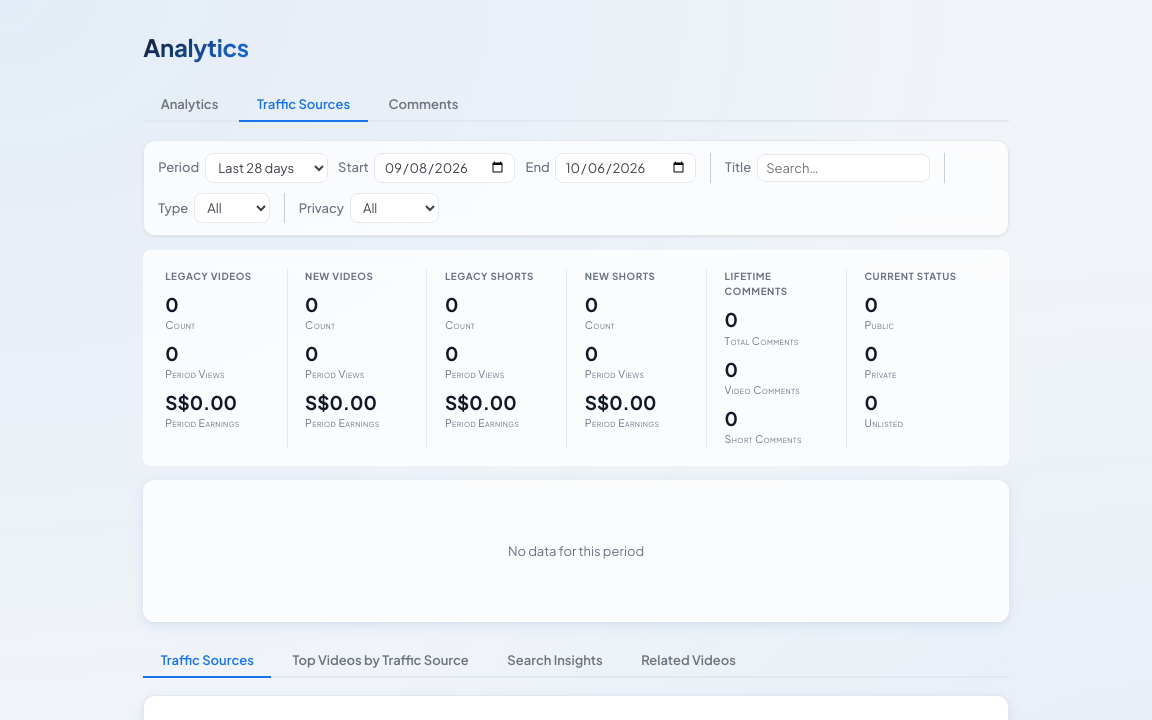
Related Videos sub-tab › defaults to Traffic Sources, switching to Related Videos renders both rows of cards
Expected: the text "Related Traffic from My Channel" is not shown
Click the button "Related Videos": click(688, 661) [624,643,753,678]
(page scrolled)
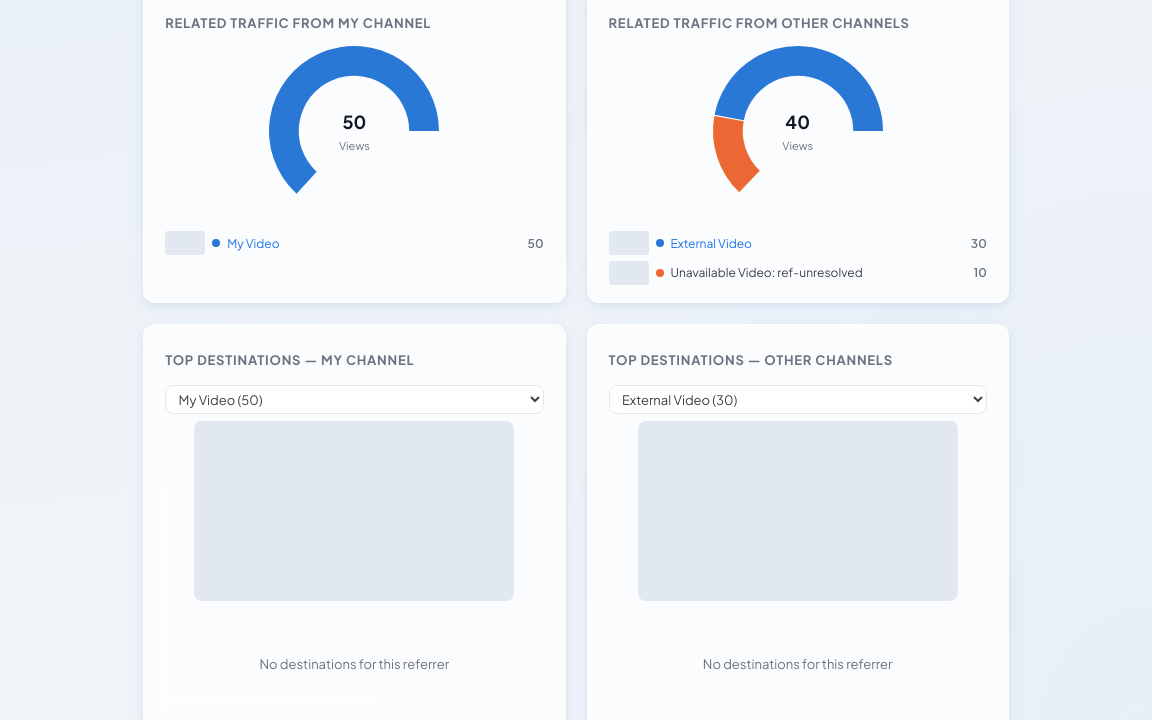
Expected: the text "Related Traffic from My Channel" is shown, [165,15,431,31]
Expected: the text "Related Traffic from Other Channels" is shown, [608,15,910,31]
Expected: the text "Top Destinations — My Channel" is shown, [165,352,414,368]
